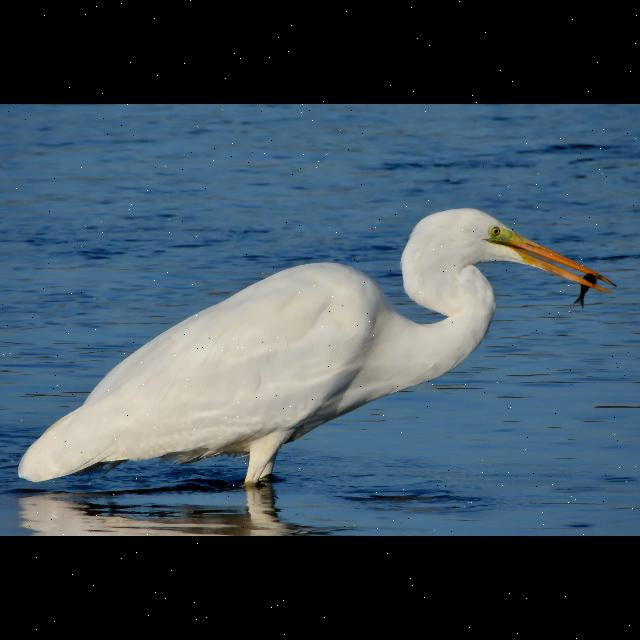egret: (11, 198, 617, 536)
